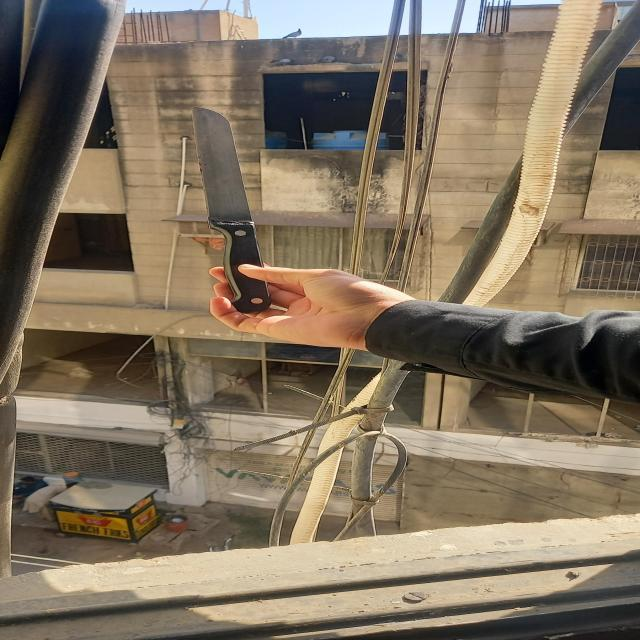faca: (193, 106, 271, 312)
